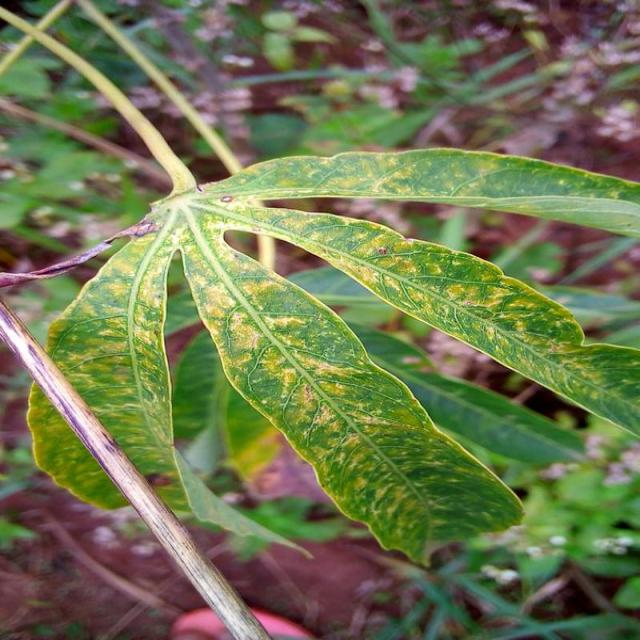cassava leaf: (2, 2, 640, 572), (177, 198, 527, 568)
